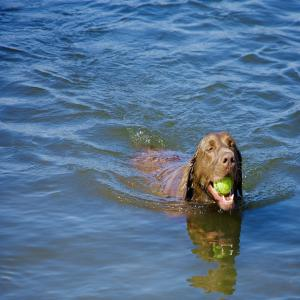TennisBall: (215, 178, 233, 195)
